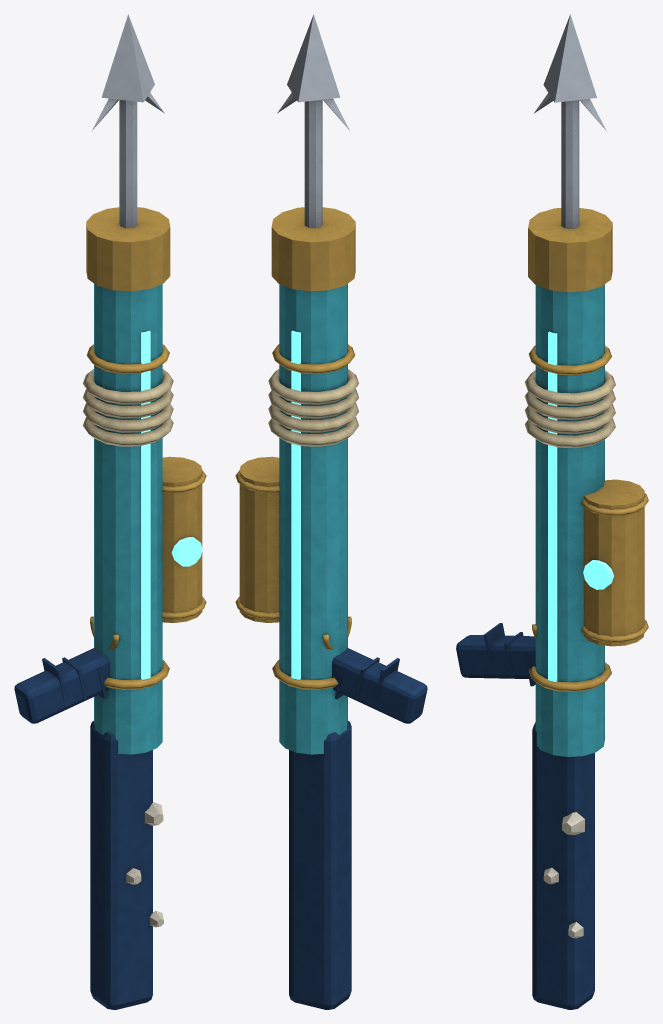
The model's file is 10_abyss_ranged.fbx.
The picture shows the model from 3 angles, left to right: view 1: azimuth 30°, elevation 25°; view 2: azimuth 150°, elevation 25°; view 3: azimuth 330°, elevation 25°; orthographic projection.
Visible parts, largest first — view 1: Weapon; view 2: Weapon; view 3: Weapon.
Part boxes in pixels (<box>): Weapon: <box>14,14,206,1009</box>; Weapon: <box>235,14,427,1009</box>; Weapon: <box>456,14,648,1009</box>.
Size of the model in its own units: 27.1 by 140 by 11.46.
Materials: 2 (1 with a texture image).
